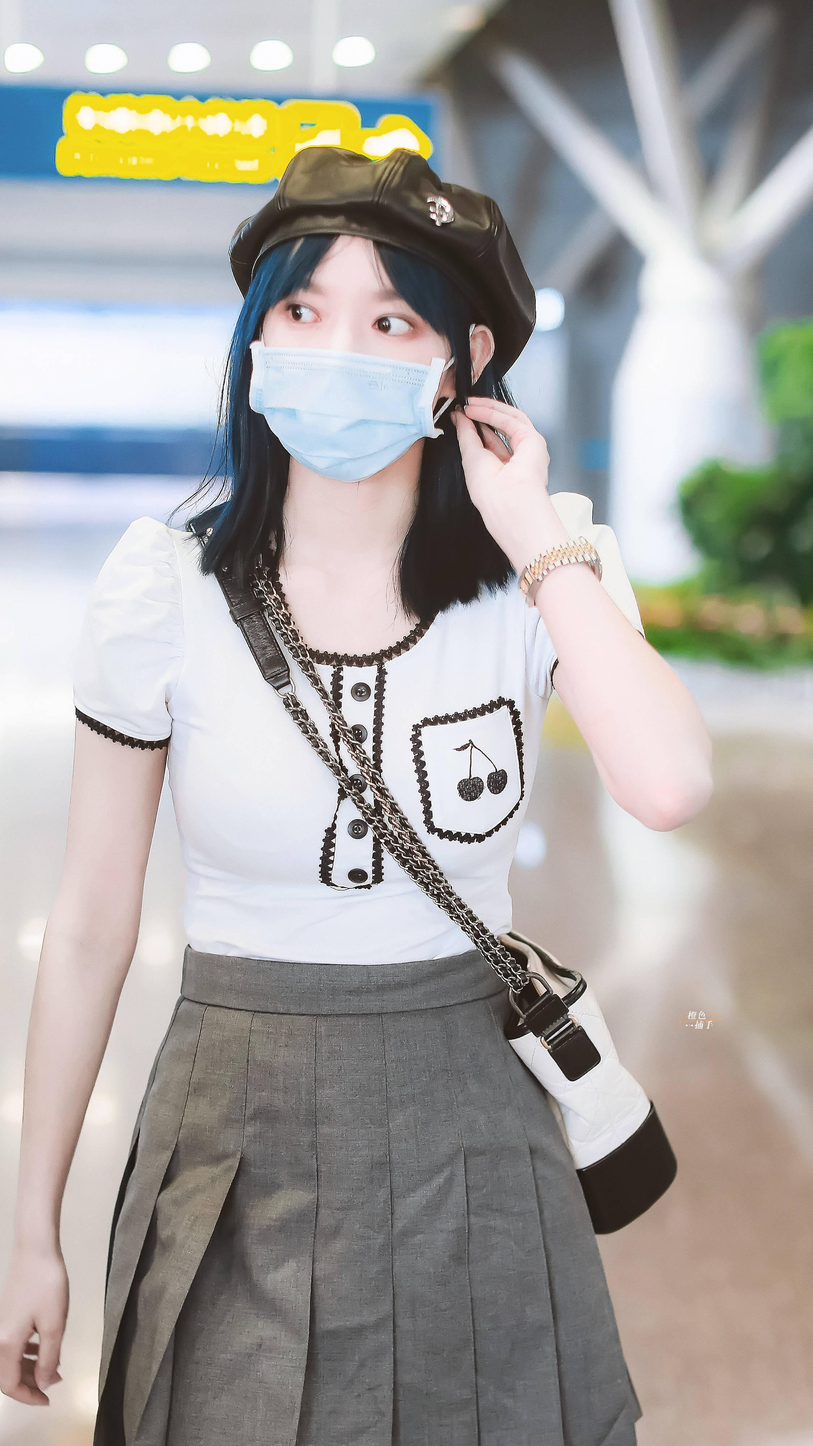OK: (257, 252, 445, 482)
